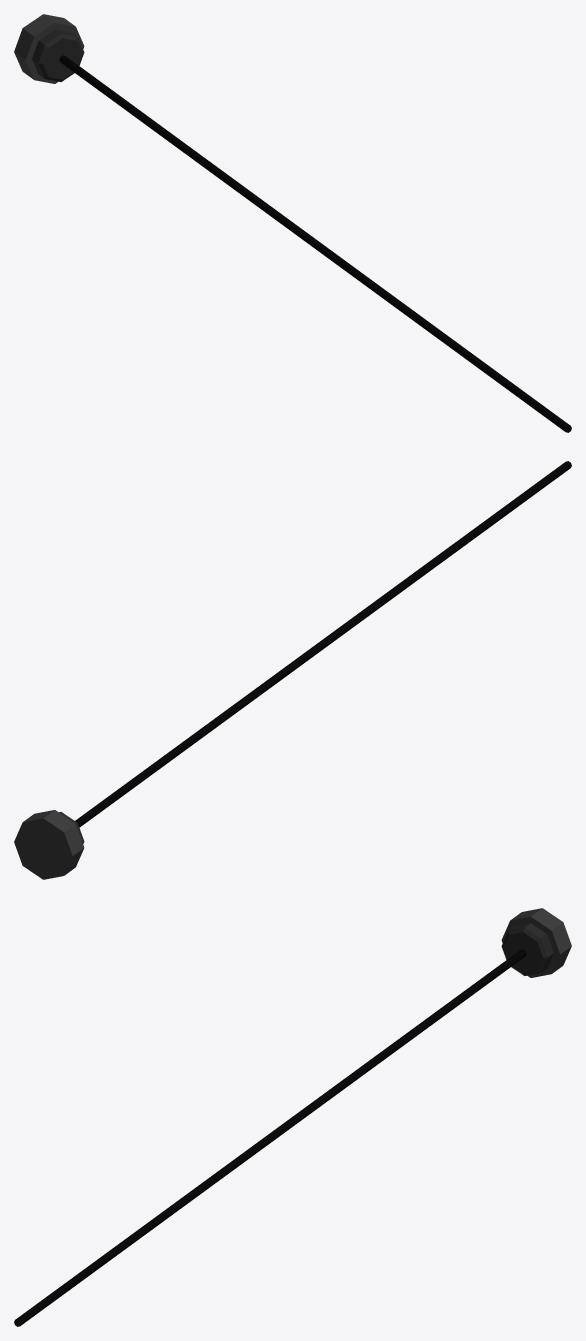
Rendered from Accessories_Laser_V1.FBX.
The picture shows the model from 3 angles, top to bottom: view 1: azimuth 30°, elevation 25°; view 2: azimuth 150°, elevation 25°; view 3: azimuth 330°, elevation 25°; orthographic projection.
Parts seen in each view (by area): view 1: laser_light, Accessories_Laser_V1; view 2: laser_light, Accessories_Laser_V1; view 3: laser_light, Accessories_Laser_V1.
Part boxes in pixels (x1,y1,x2,y2): laser_light: (59,55,571,432); Accessories_Laser_V1: (14,14,84,83); laser_light: (75,461,571,827); Accessories_Laser_V1: (14,810,84,879); laser_light: (14,949,526,1326); Accessories_Laser_V1: (501,908,571,977).
Bounding box in the file's own units: 9.25 × 9.25 × 143.
